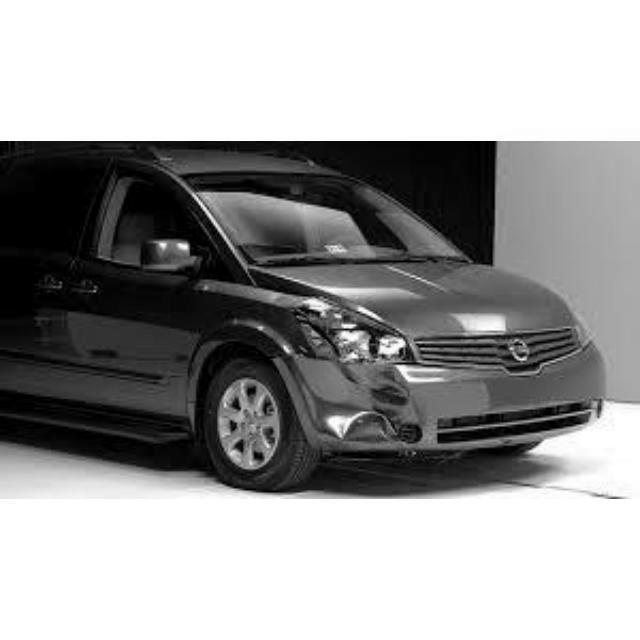Headlight-damage: (282, 291, 401, 372)
front-bumper-dent: (299, 366, 461, 457)
